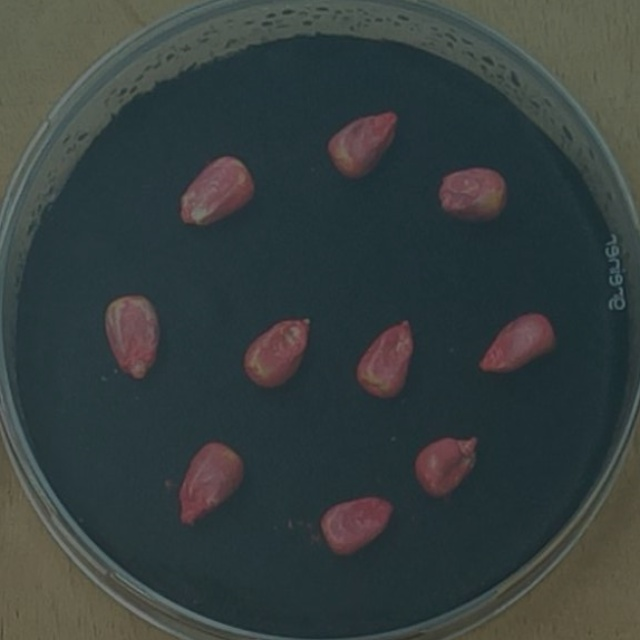Zea mays: (169, 147, 264, 235), (170, 434, 251, 532), (318, 103, 405, 188), (237, 309, 320, 398), (98, 286, 169, 390), (471, 305, 564, 382), (350, 311, 422, 409), (314, 488, 402, 565), (406, 428, 486, 507), (429, 159, 516, 231)
